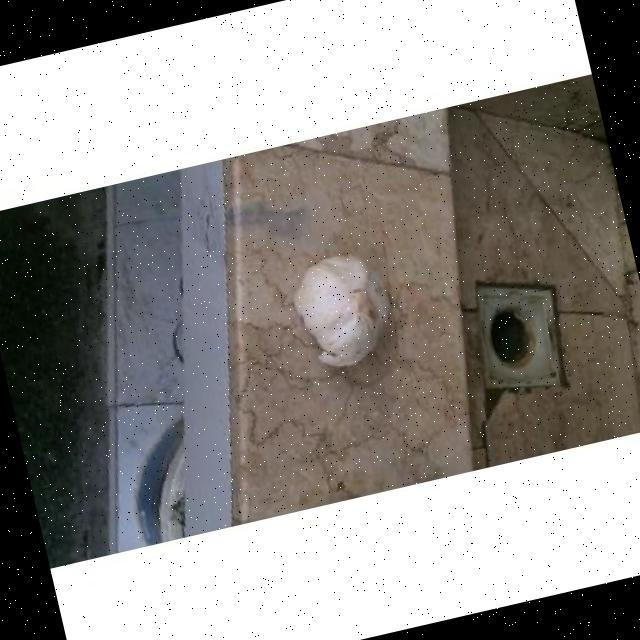garlic: (292, 255, 387, 367)
